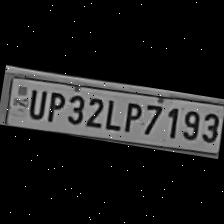1: (158, 104, 182, 140)
2: (82, 92, 106, 130)
3: (62, 90, 86, 127), (197, 108, 221, 145)
7: (139, 100, 164, 138)
9: (178, 105, 202, 144)
L: (101, 96, 124, 132)
P: (42, 87, 66, 125), (118, 98, 143, 134)
U: (23, 85, 48, 121)
